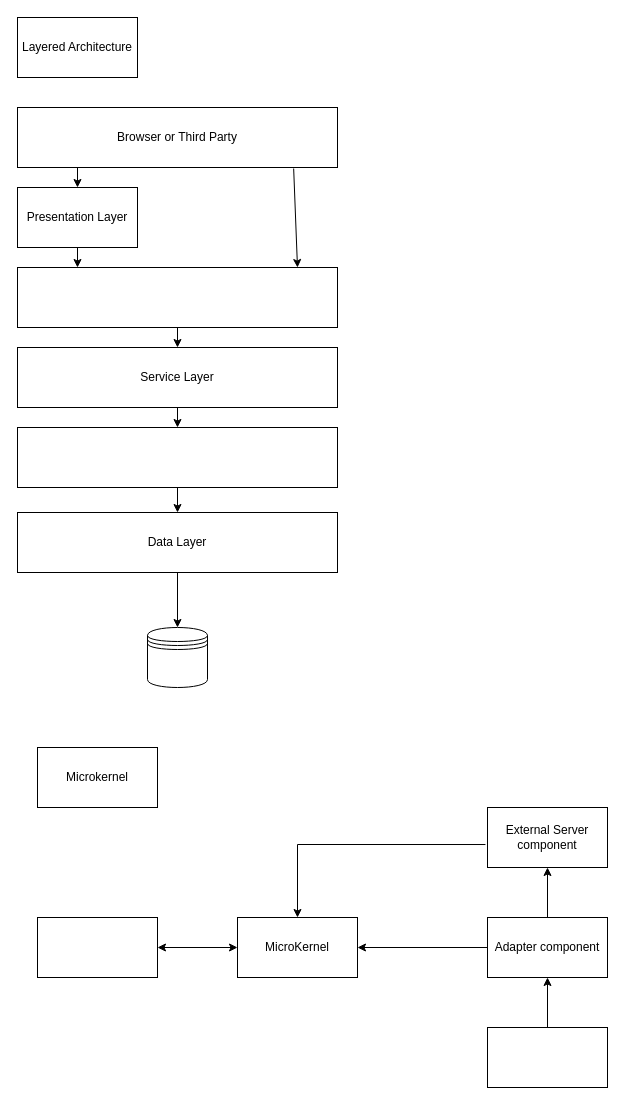
Image size: 625x1105. Some labels were removed from this diagram. Each missing label, with the box of its shape:
Business Layer: (16, 426, 338, 488)
Client Component: (486, 1026, 608, 1088)
Controller/Webservice Layer: (16, 266, 338, 328)
Internal Server: (36, 916, 158, 978)
